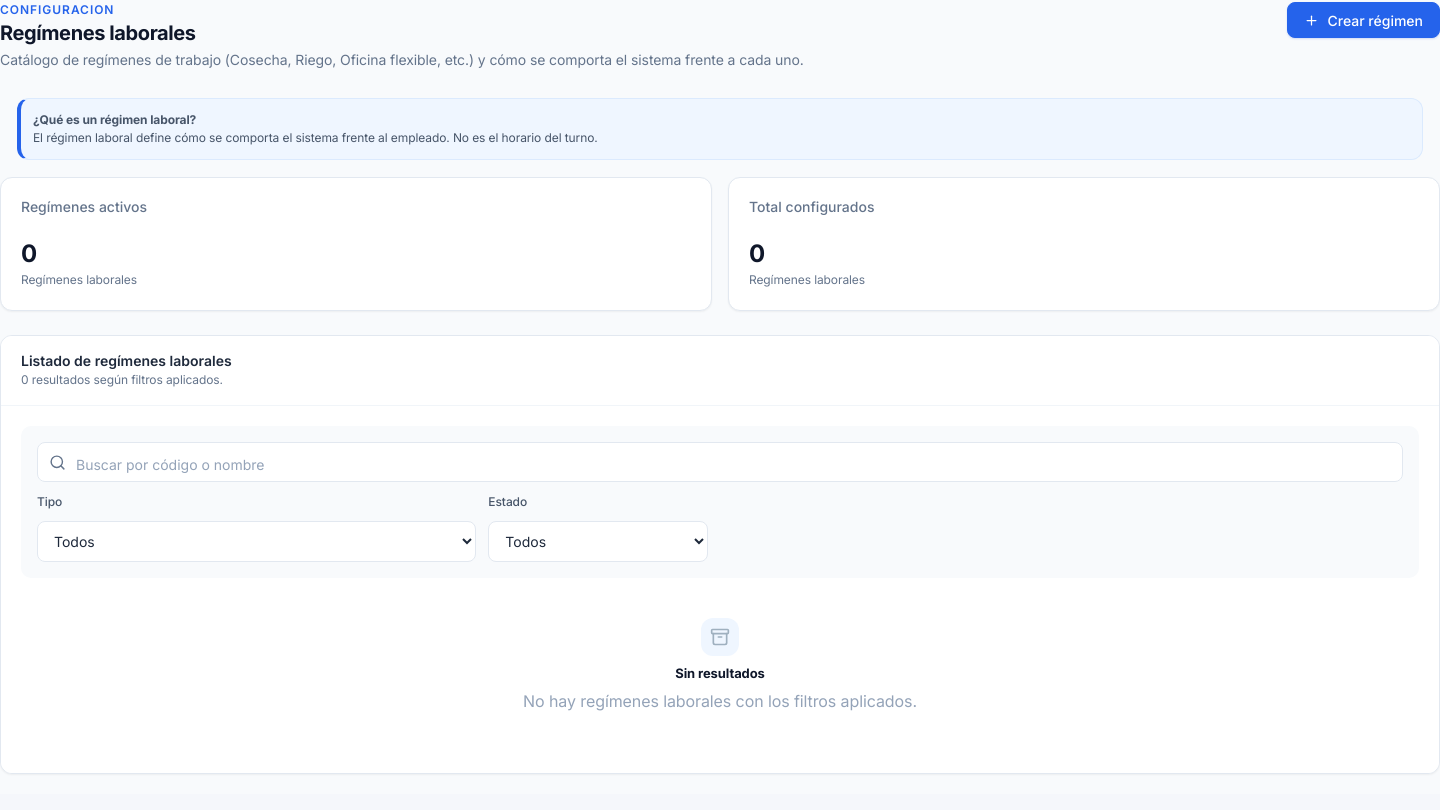
Scenario: WorkRegimesPage — Etapa 10D (alerta de jornada extendida) › el modal de crear régimen muestra el campo con label y helper claros, sin lenguaje técnico
Click the button "Crear régimen".
click(1364, 20)  # box [1288,2,1439,38]
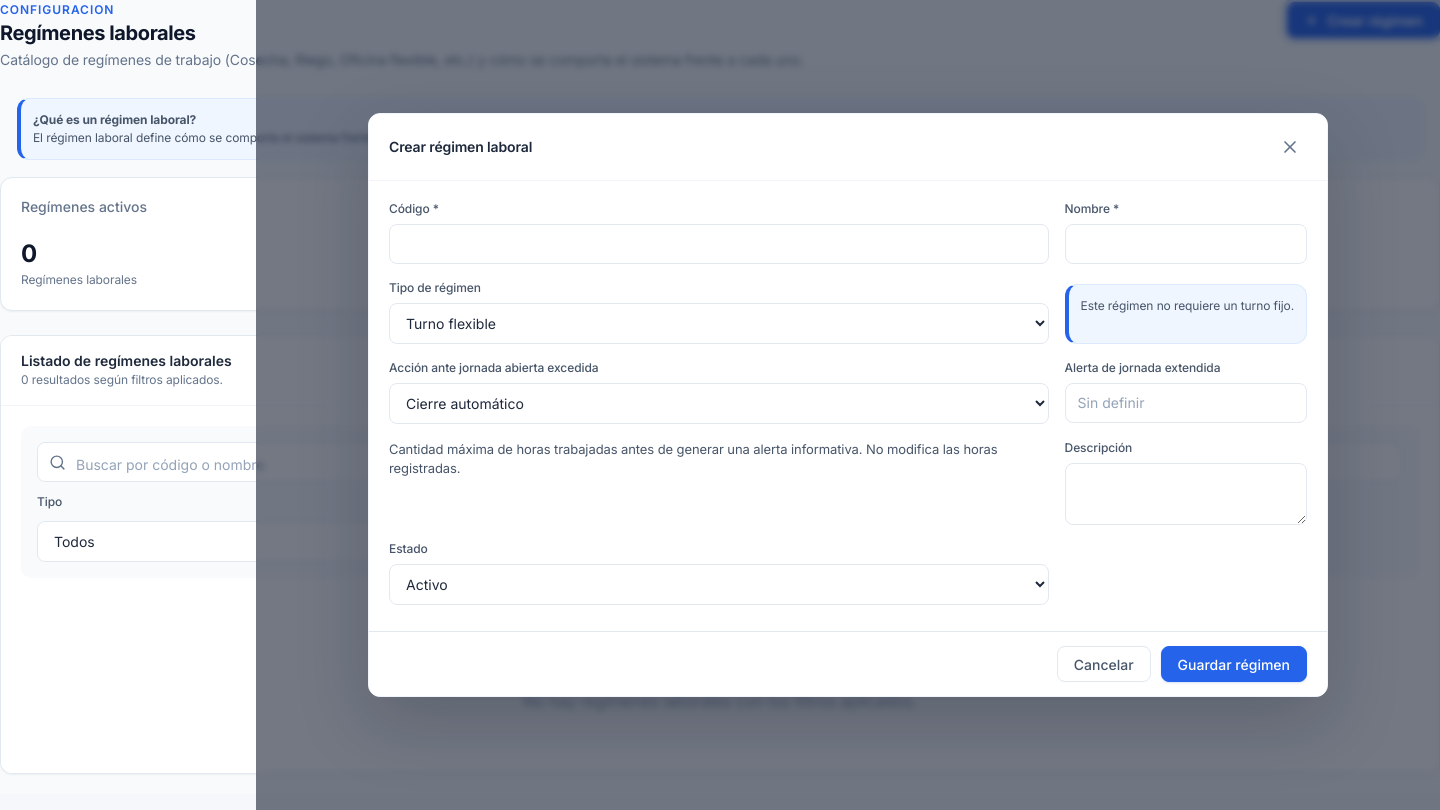
expect the text "Alerta de jornada extendida" is shown: met, box [1065,360,1307,424]
expect the text "Cantidad máxima de horas trabajadas antes de generar una alerta informativa. No modifica las horas registradas." is shown: met, box [389,441,998,476]
